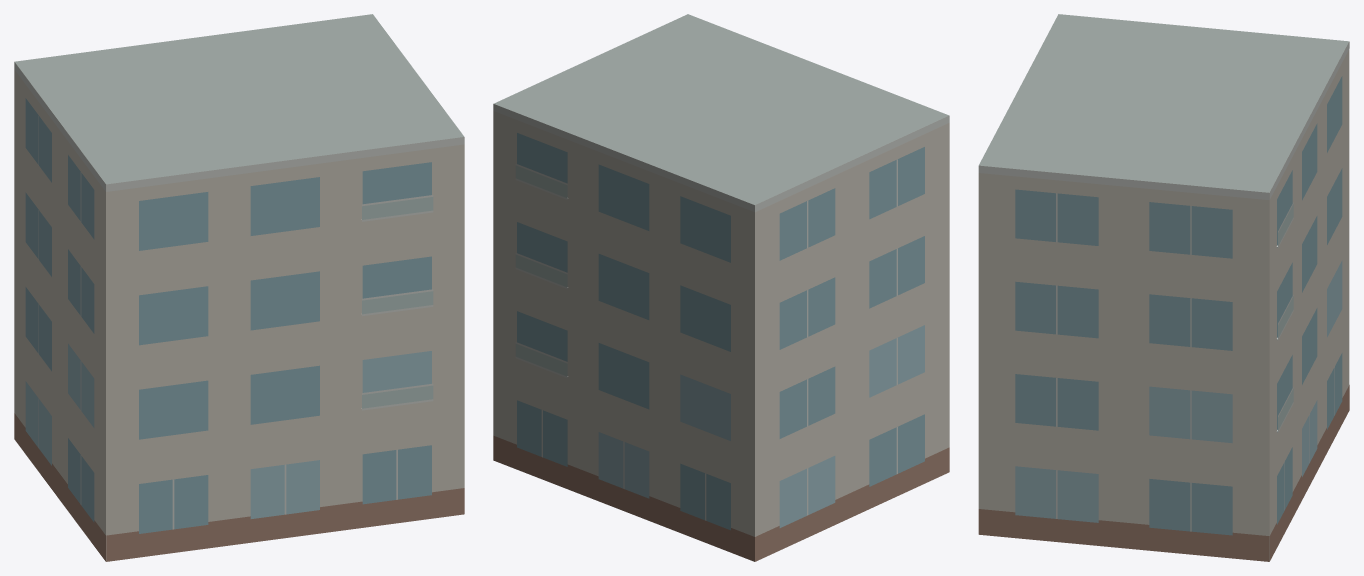
Rendered from residential-8d232ef0-dc03-4715-ab7d-46316456c5b1.glb.
3 renders of one model, left to right at view 1: azimuth 30°, elevation 25°; view 2: azimuth 150°, elevation 25°; view 3: azimuth 270°, elevation 25°, orthographic. The views are drawn at different scales.
Parts seen in each view (by area): view 1: residential-8d232ef0-dc03-4715-ab7d-46316456c5b1.tmp; view 2: residential-8d232ef0-dc03-4715-ab7d-46316456c5b1.tmp; view 3: residential-8d232ef0-dc03-4715-ab7d-46316456c5b1.tmp.
Part boxes in pixels (bbox=[...]): residential-8d232ef0-dc03-4715-ab7d-46316456c5b1.tmp: bbox=[14, 14, 464, 561]; residential-8d232ef0-dc03-4715-ab7d-46316456c5b1.tmp: bbox=[493, 14, 949, 561]; residential-8d232ef0-dc03-4715-ab7d-46316456c5b1.tmp: bbox=[978, 14, 1349, 561].
Size of the model in its own units: 12.69 by 12.2 by 11.12.
